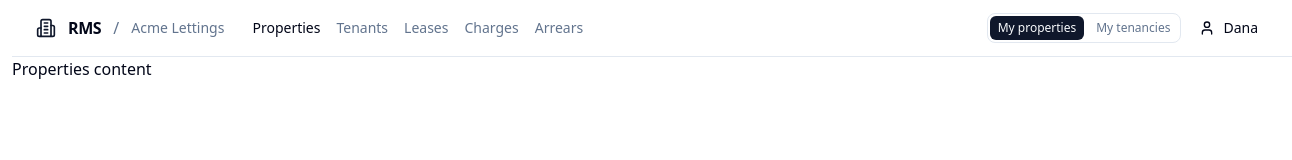
it: AppShell › shows an actor switch for a user who is both a landlord and a tenant, and it navigates
The width and height of the screenshot is (1292, 160).
Check: the text "Properties content" is shown, box [12, 58, 152, 80]
Check: the text "Acme Lettings" is shown, box [131, 18, 224, 38]
Click the link "My tenancies" at {"x": 1133, "y": 28}, box [1096, 19, 1170, 36]
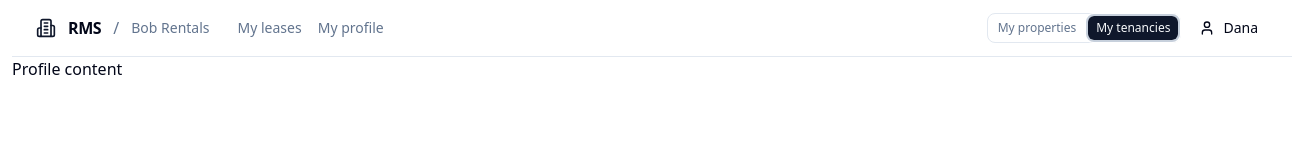
Check: the text "Profile content" is shown, box [12, 58, 122, 80]
